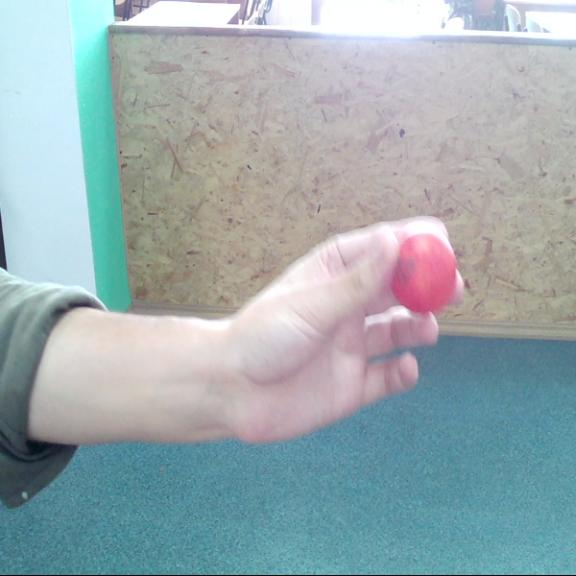ball: (394, 237, 458, 317)
